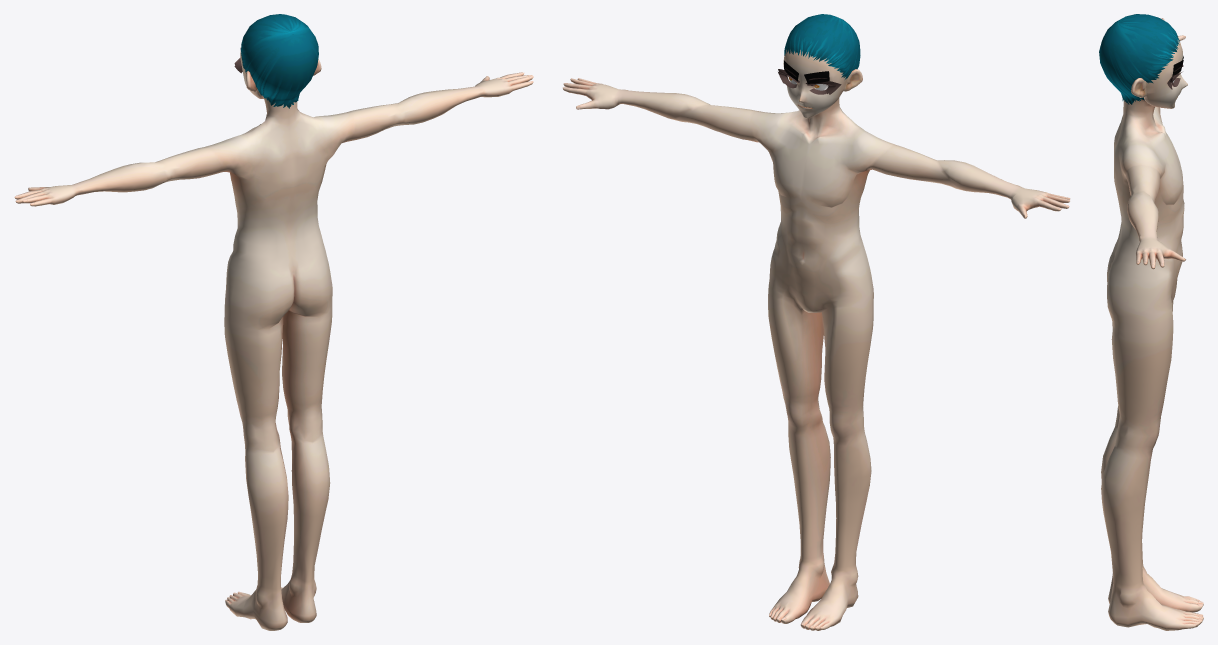
File: MaleBase.fbx
3 renders of one model, left to right at view 1: azimuth 30°, elevation 25°; view 2: azimuth 150°, elevation 25°; view 3: azimuth 270°, elevation 25°, orthographic. The views are drawn at different scales.
Parts seen in each view (by area): view 1: node_id17 (×4); view 2: node_id17 (×4), node_id5; view 3: node_id17 (×4), node_id5 (×2).
Boxes of the visible parts, left/top/right/bottom form: node_id17 (×4): left=14, top=14, right=533, bottom=630; node_id17 (×4): left=562, top=14, right=1070, bottom=630; node_id5: left=783, top=49, right=847, bottom=118; node_id17 (×4): left=1099, top=14, right=1203, bottom=630; node_id5 (×2): left=1131, top=39, right=1187, bottom=108.
Size of the model in its own units: 0.4602 by 0.5119 by 0.0811.
Materials: 15 (15 with a texture image).
